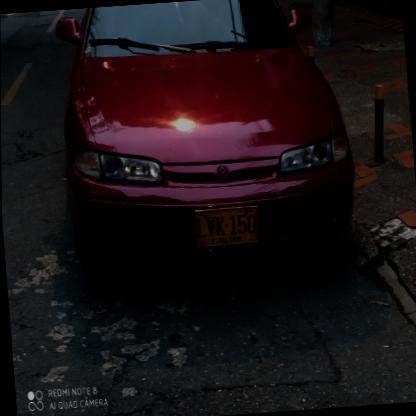placa: (189, 202, 263, 250)
